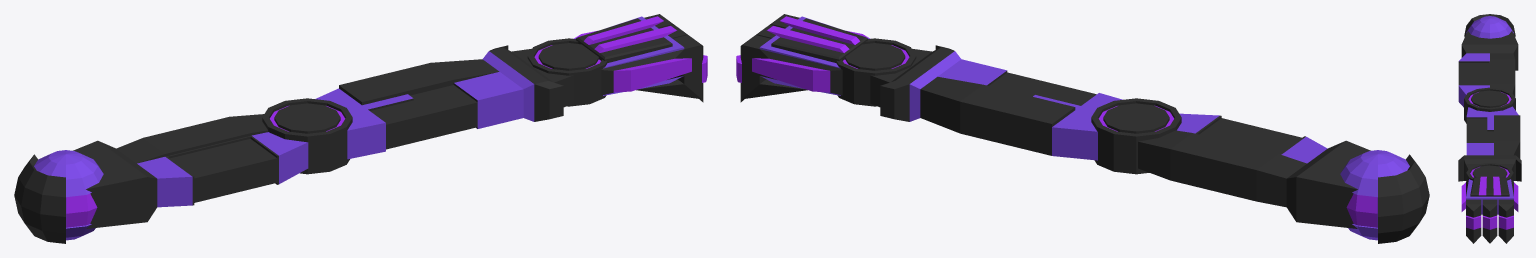
Rendered from PlayerArm.fbx.
3 renders of one model, left to right at view 1: azimuth 30°, elevation 25°; view 2: azimuth 150°, elevation 25°; view 3: azimuth 270°, elevation 25°, orthographic. The views are drawn at different scales.
Visible parts, largest first — view 1: Arm 2, Arm, Arm 3, Shoulder, Elbow, Elbow 2; view 2: Arm 2, Arm, Arm 3, Shoulder, Elbow, Elbow 2; view 3: Arm 2, Arm 3, Arm, Elbow, Shoulder, Elbow 2.
Part boxes in pixels (left/top/right/bottom): Arm 2: left=315, top=45, right=573, bottom=159; Arm: left=73, top=114, right=308, bottom=228; Arm 3: left=573, top=14, right=707, bottom=102; Shoulder: left=14, top=150, right=103, bottom=243; Elbow: left=262, top=98, right=352, bottom=174; Elbow 2: left=527, top=38, right=607, bottom=106; Arm 2: left=870, top=45, right=1122, bottom=160; Arm: left=1138, top=113, right=1370, bottom=228; Arm 3: left=736, top=14, right=870, bottom=102; Shoulder: left=1340, top=150, right=1429, bottom=243; Elbow: left=1091, top=98, right=1181, bottom=174; Elbow 2: left=836, top=38, right=916, bottom=106; Arm 2: left=1458, top=106, right=1521, bottom=181; Arm 3: left=1461, top=176, right=1518, bottom=243; Arm: left=1458, top=31, right=1518, bottom=107; Elbow: left=1464, top=87, right=1515, bottom=123; Shoulder: left=1464, top=14, right=1515, bottom=38; Elbow 2: left=1466, top=163, right=1513, bottom=181.
Bounding box in the file's own units: 1715 × 220 × 245.
